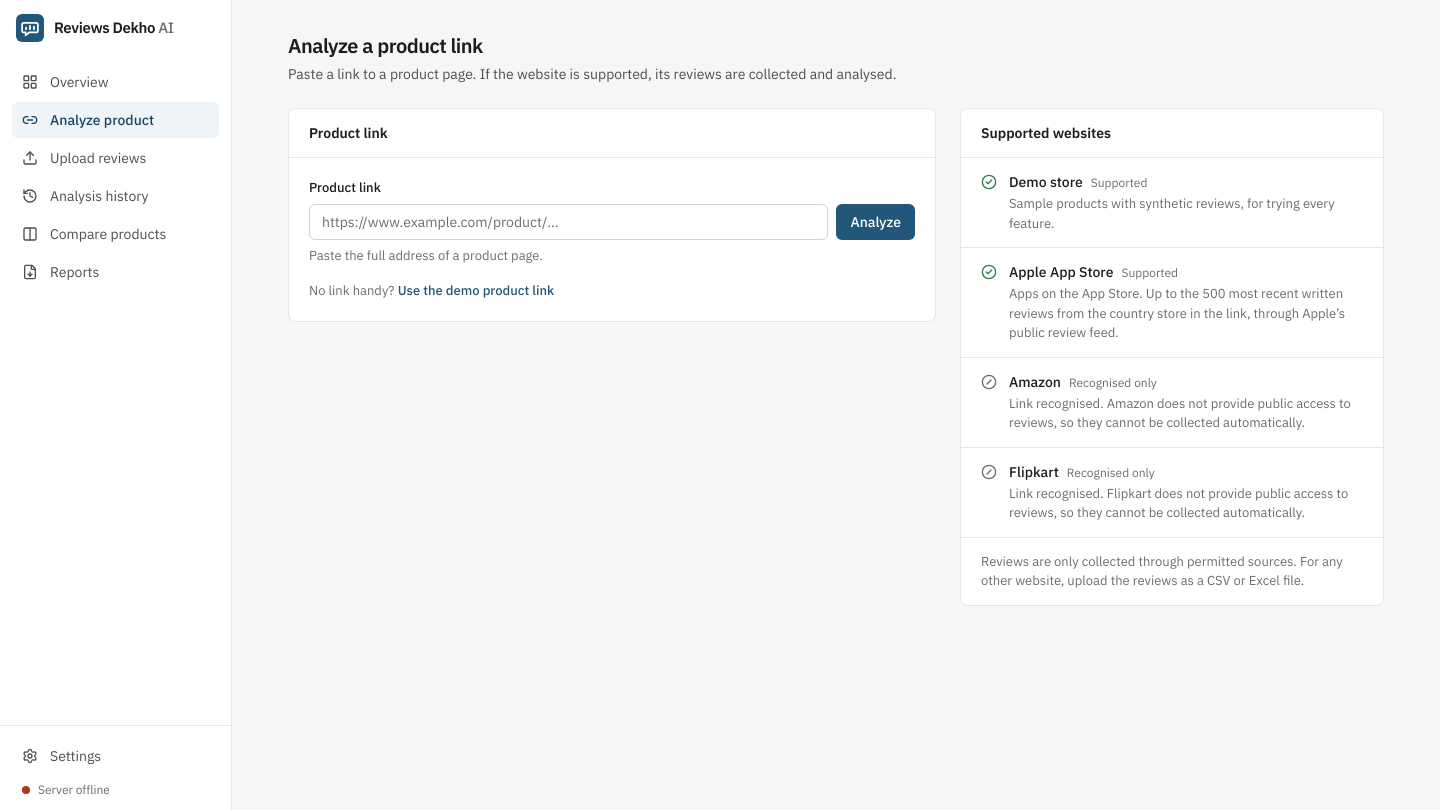
Test: product link form › reports unsupported websites
Expected: the text "Server offline" is shown, [22, 782, 110, 797]
Step 1. Type "https://shop.example.com/item/42" into the field labelled "Product link" → (569,222), box [309, 204, 828, 240]
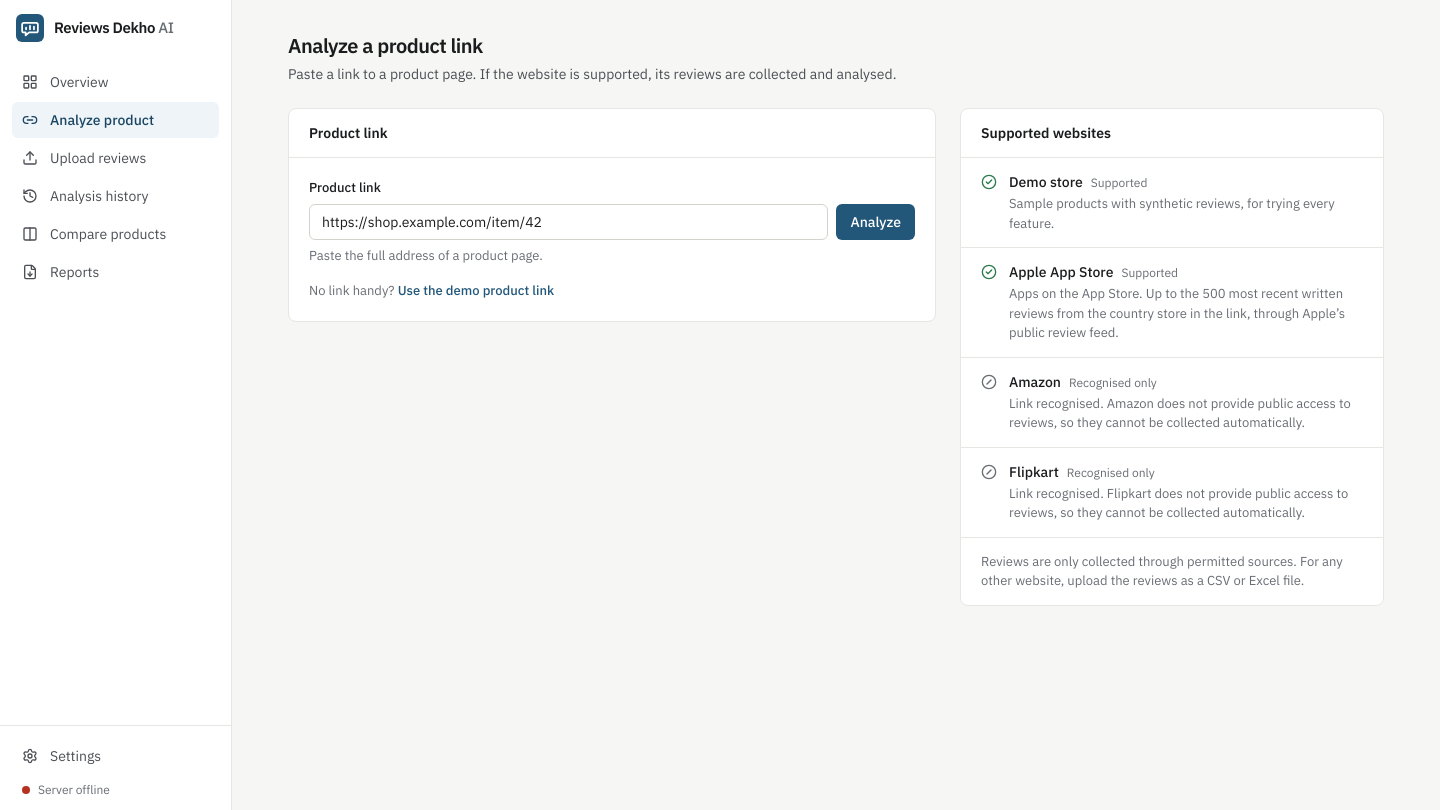
Step 2. Click the button "Analyze" → (876,222), box [836, 204, 915, 240]
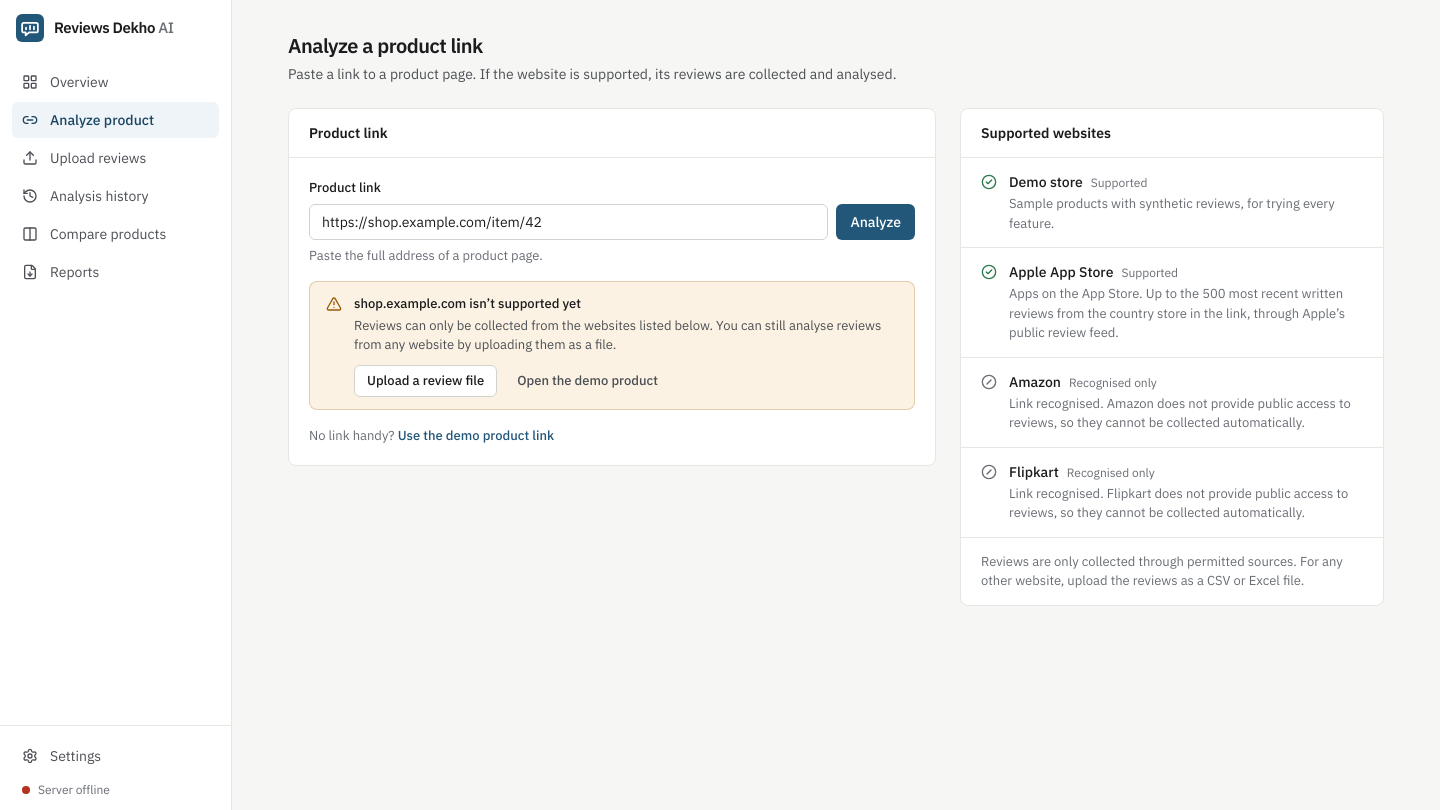
Now the text "shop.example.com isn’t supported yet" is shown, box [354, 295, 581, 312]
